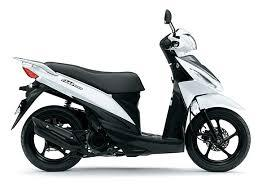motorcycle: (8, 6, 251, 172)
